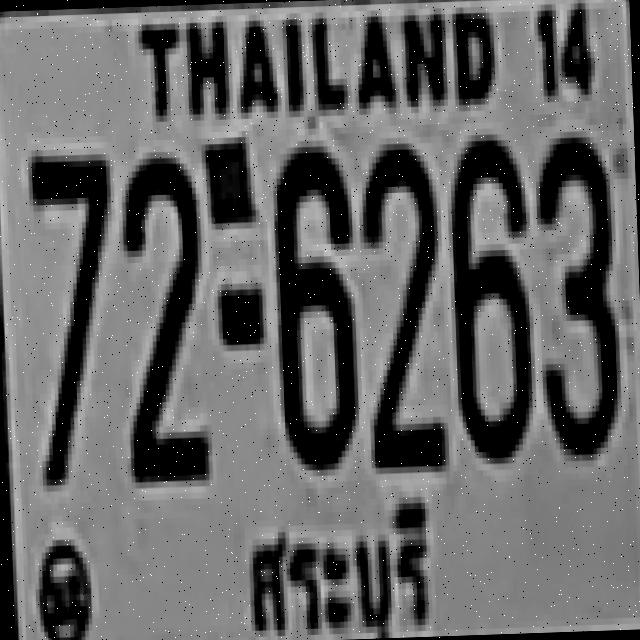2: (116, 150, 205, 458), (356, 139, 441, 452)
3: (534, 130, 618, 455)
6: (268, 139, 356, 465), (446, 133, 530, 458)
7: (27, 148, 116, 480)
SaraBuri: (226, 475, 452, 640)
